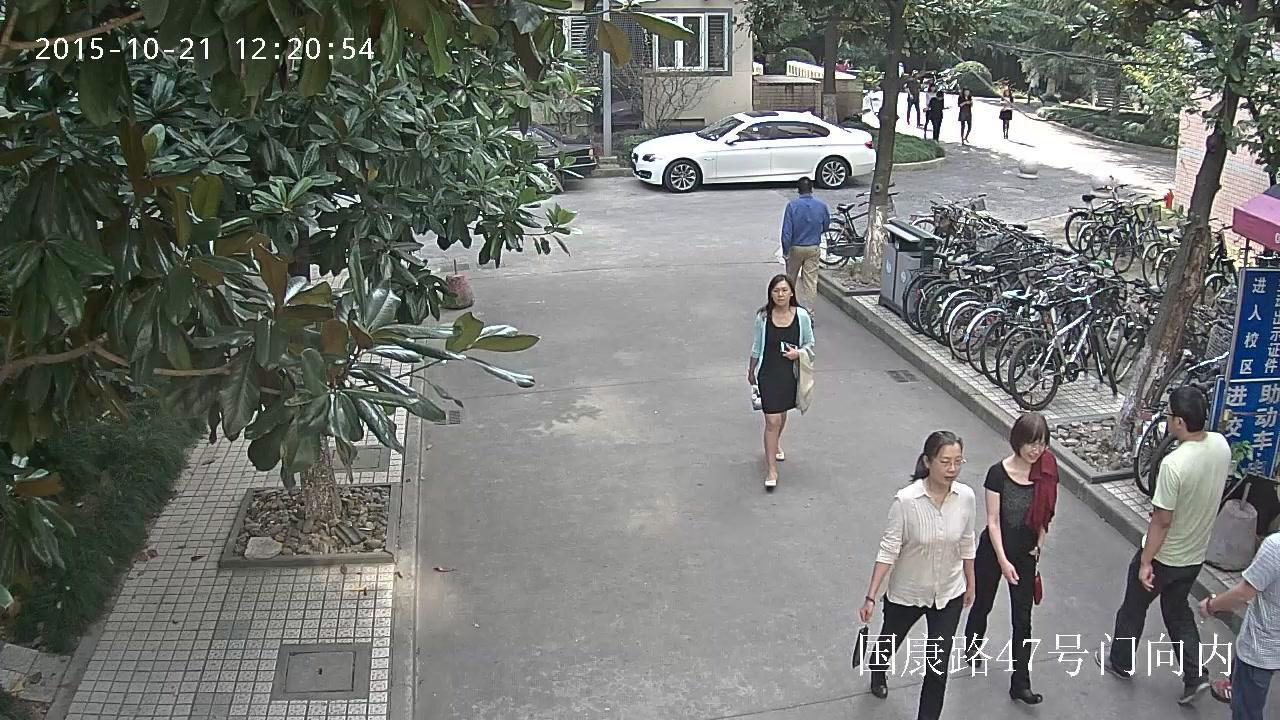face: (930, 441, 961, 485), (1020, 435, 1045, 463), (771, 279, 790, 305), (1167, 400, 1175, 432), (964, 90, 969, 95), (930, 86, 935, 91), (1005, 90, 1008, 95), (937, 96, 941, 99), (915, 74, 918, 78)
